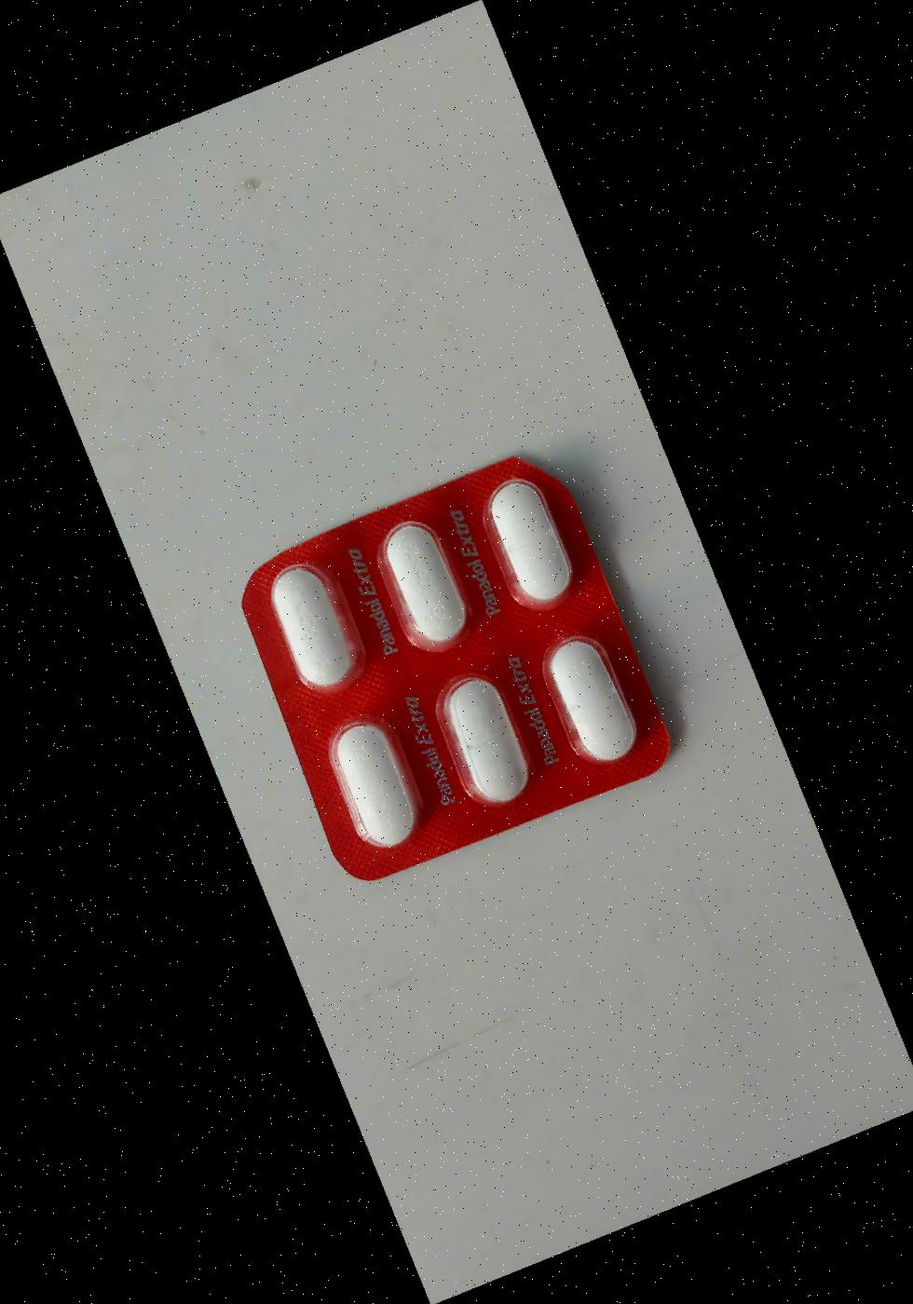Full: (362, 500, 493, 666), (310, 696, 441, 862), (464, 463, 594, 630), (525, 616, 655, 782), (418, 657, 548, 823), (253, 546, 383, 712)
